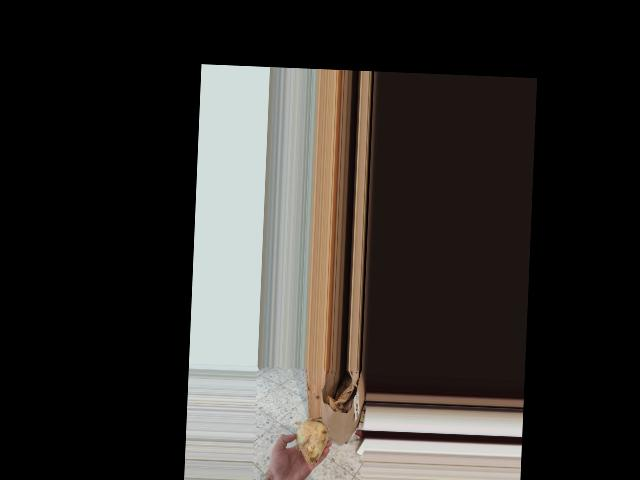onion: (288, 413, 331, 471)
